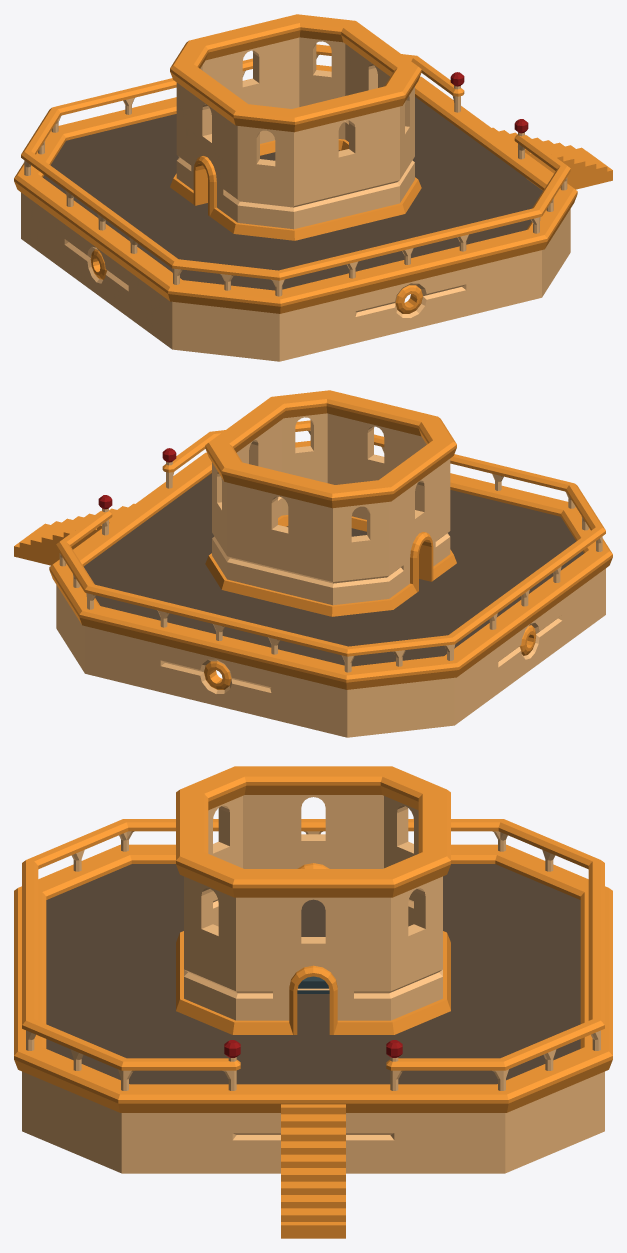
File: FastTravelTemple.fbx
3 renders of one model, top to bottom at view 1: azimuth 30°, elevation 25°; view 2: azimuth 150°, elevation 25°; view 3: azimuth 270°, elevation 25°, orthographic. The views are drawn at different scales.
Parts seen in each view (by area): view 1: mergedBlocks; view 2: mergedBlocks; view 3: mergedBlocks.
Boxes of the visible parts, <box> form: mergedBlocks: <box>14,14,612,361</box>; mergedBlocks: <box>14,390,612,737</box>; mergedBlocks: <box>14,766,612,1238</box>.
Size of the model in its own units: 92 by 31 by 74.
